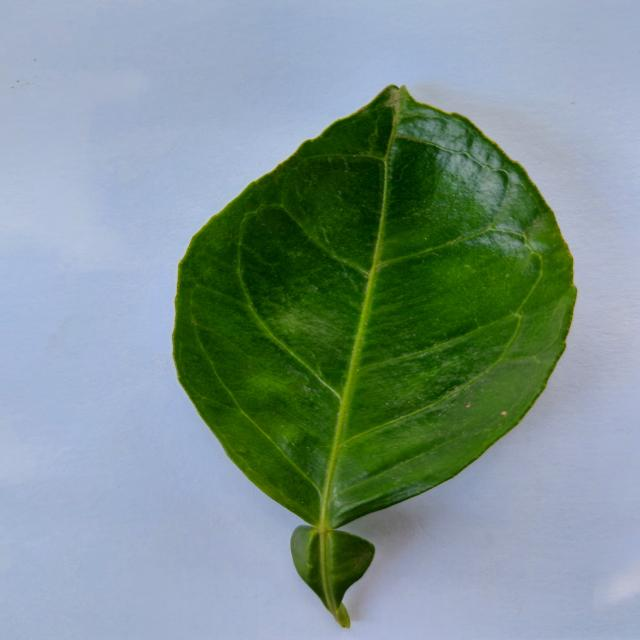greening: (173, 86, 576, 626)
